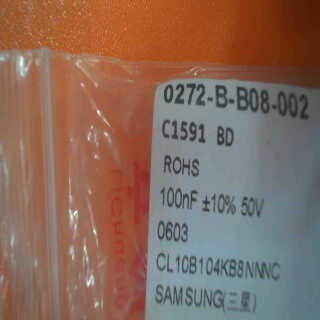100nF: (156, 182, 203, 217)
